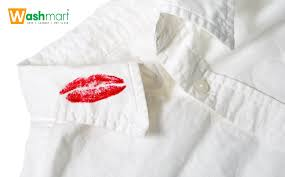kimchi: (59, 73, 125, 107)
